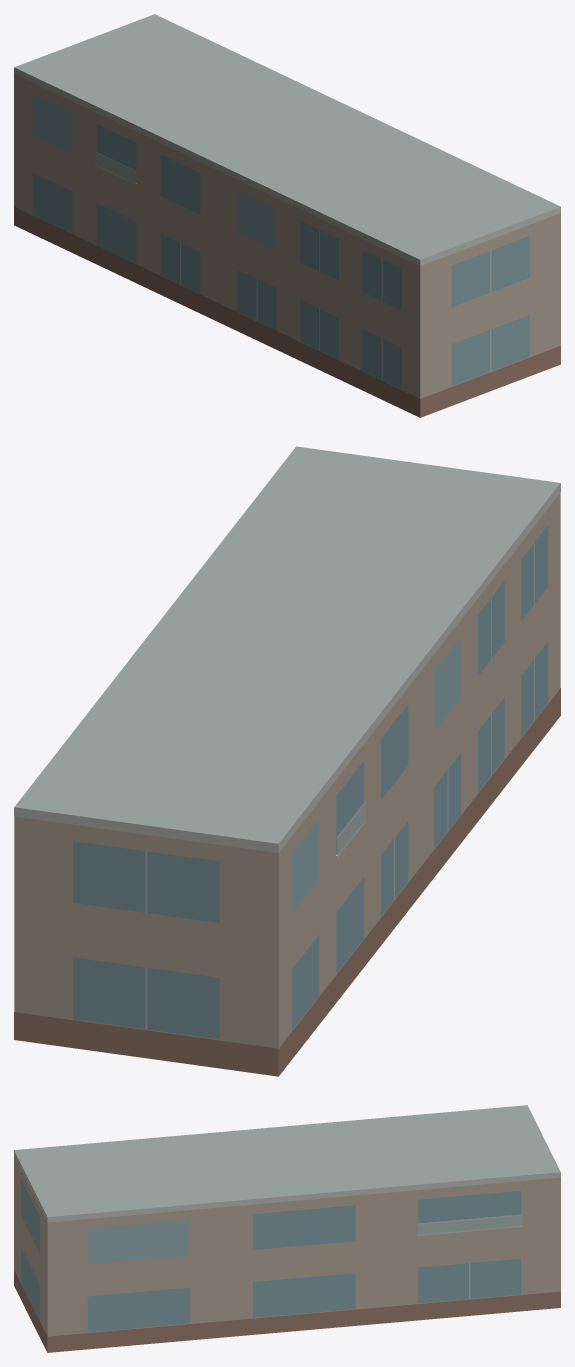
The model's file is survey-upis-32699319.glb.
3 views of the same model, one above another, from view 1: azimuth 30°, elevation 25°; view 2: azimuth 150°, elevation 25°; view 3: azimuth 270°, elevation 25° (orthographic). The views are drawn at different scales.
Visible parts, largest first — view 1: survey-upis-32699319.tmp; view 2: survey-upis-32699319.tmp; view 3: survey-upis-32699319.tmp.
Boxes of the visible parts, x1,y1,x2,y2 form: survey-upis-32699319.tmp: (14,14,560,417); survey-upis-32699319.tmp: (14,446,560,1076); survey-upis-32699319.tmp: (14,1105,560,1352).
Bounding box in the file's own units: 10.82 × 6.1 × 22.29.
